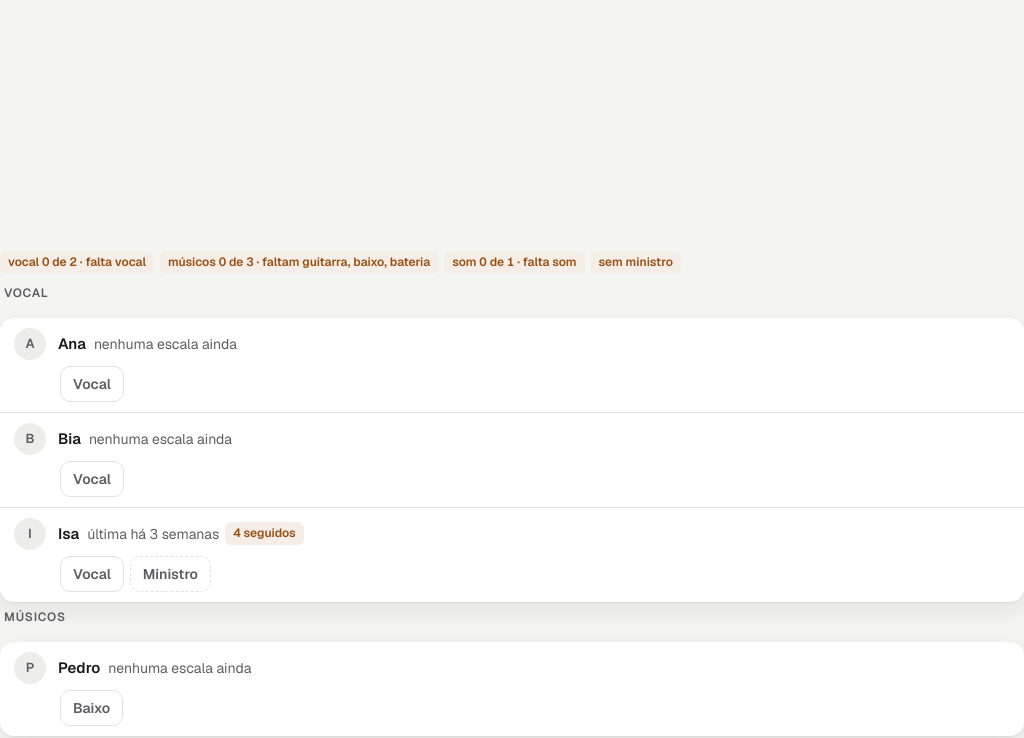
Test case: lembrete de notificação › só aparece quando alguém escalado não vai receber
Expected: the text "sem notificação" is not shown
What coordinates should you click on to do the following:
click the button "Vocal" below "Bia"
I would click on:
 (92, 479)
Its box is [60,461,124,497].
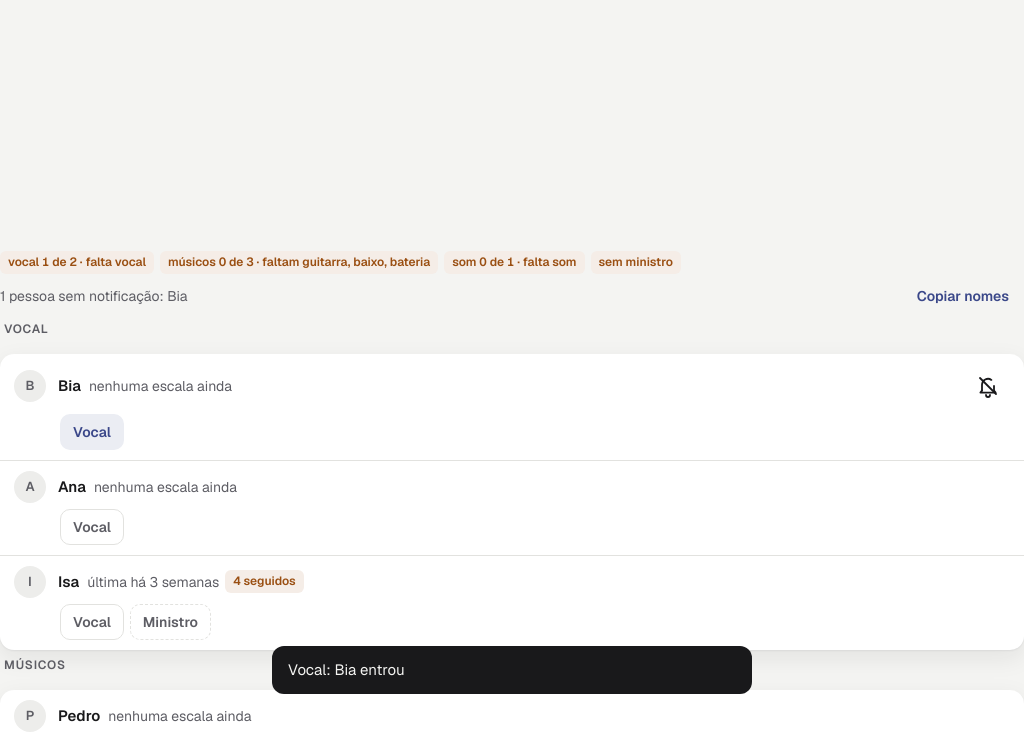
Now the text "1 pessoa sem notificação: Bia" is shown, box [0,287,188,305]
Now the button "Copiar nomes" is shown, box [902,278,1023,314]
